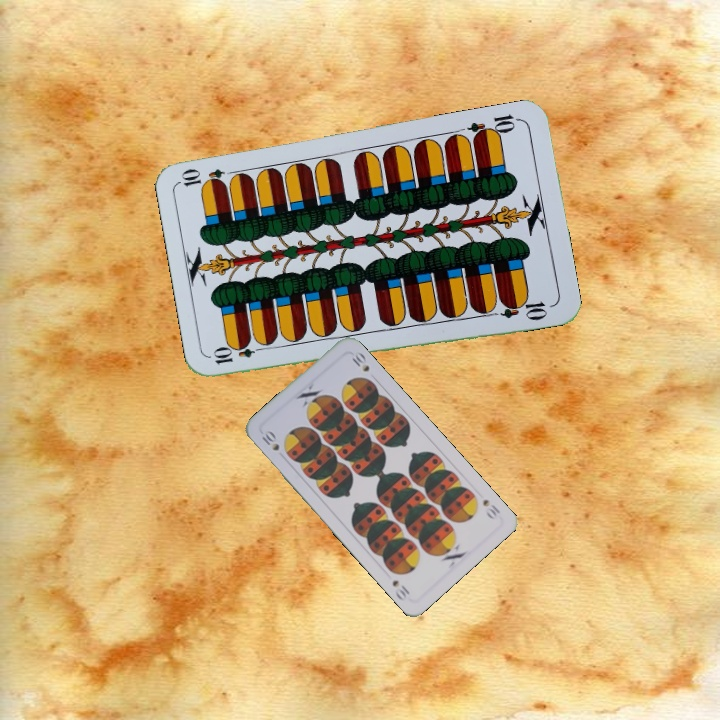E10: (464, 110, 523, 143), (209, 340, 268, 367)
S10: (479, 495, 503, 522), (258, 428, 282, 453)
